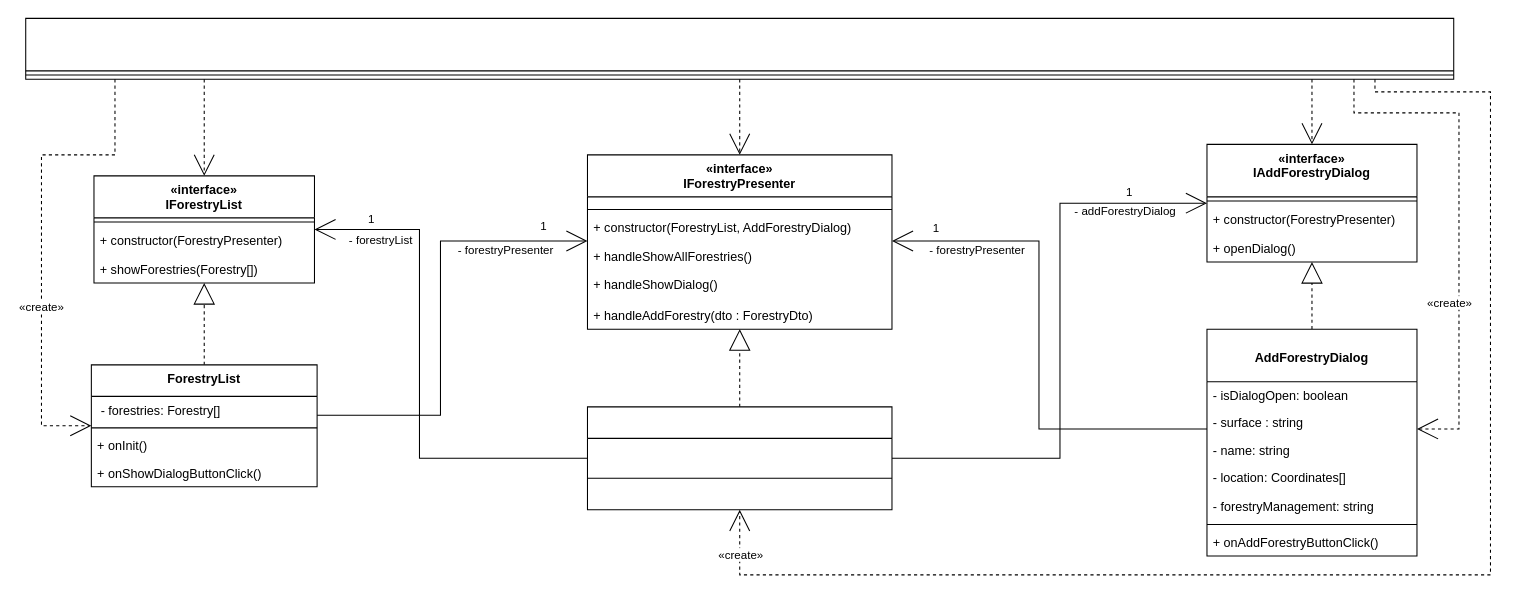
This 1530x614 diagram has some shape labels left out. The shapes that lost their labels are listed below. From the top down, each one's centre as x and y in pixels, then its label:
(739,48): ForestryWindow
(739,458): ForestryPresenter
